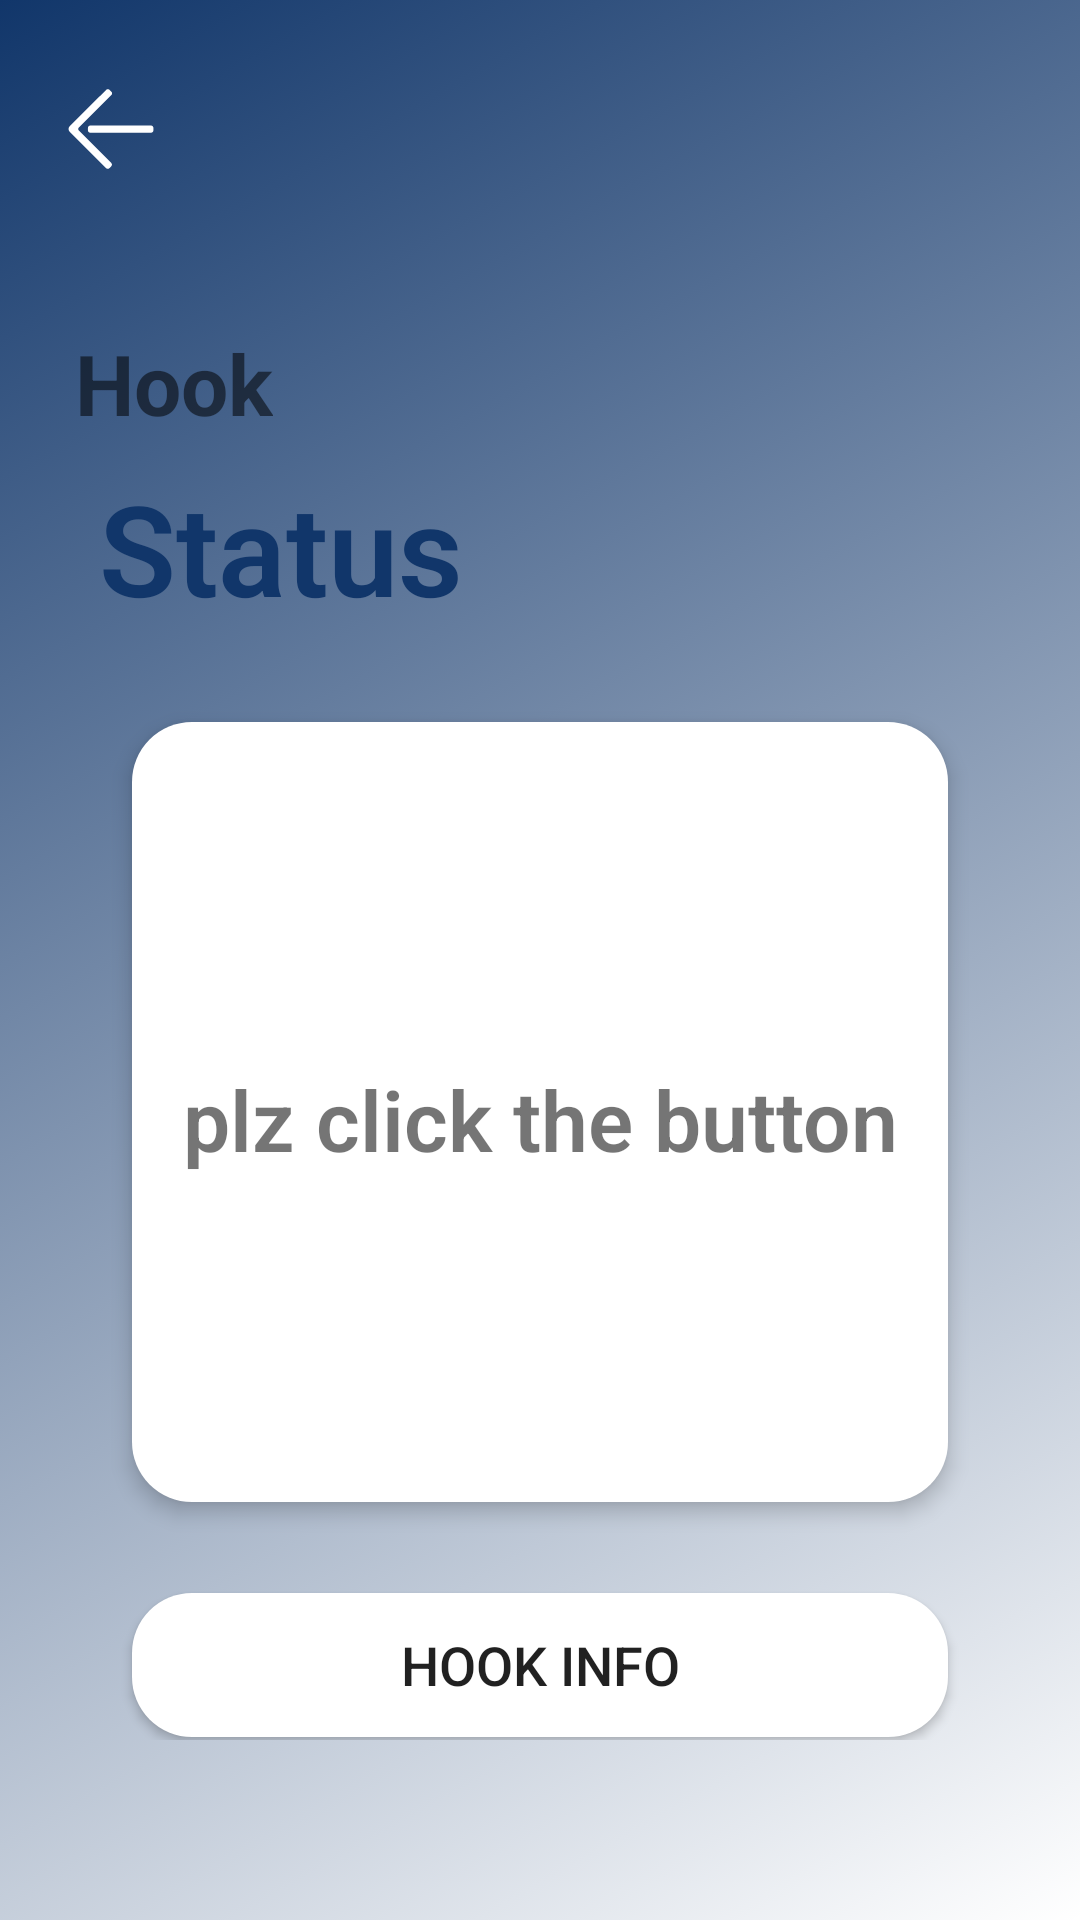

Point at icon controls on the screen. Image size 1080×1920, points as (x,y).
arrow left: (111,129)
